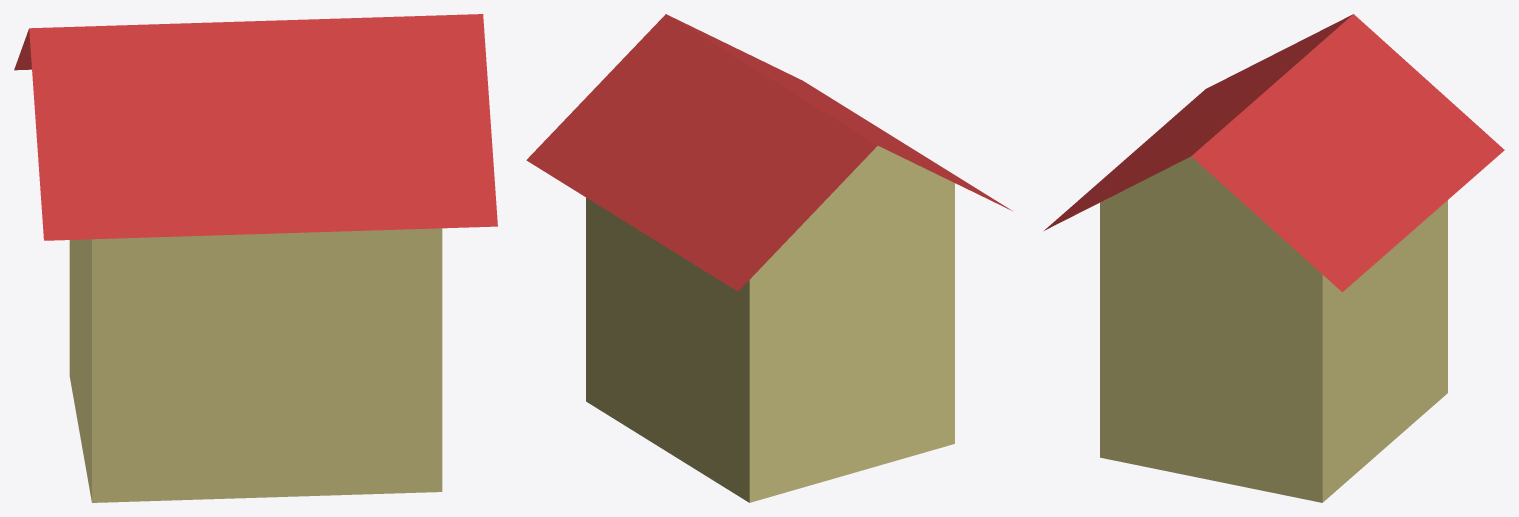
The picture shows the model from 3 angles, left to right: view 1: azimuth 30°, elevation 25°; view 2: azimuth 150°, elevation 25°; view 3: azimuth 270°, elevation 25°; orthographic projection. The views are drawn at different scales.
Bounding box in the file's own units: 11.26 × 10.81 × 8.78.
